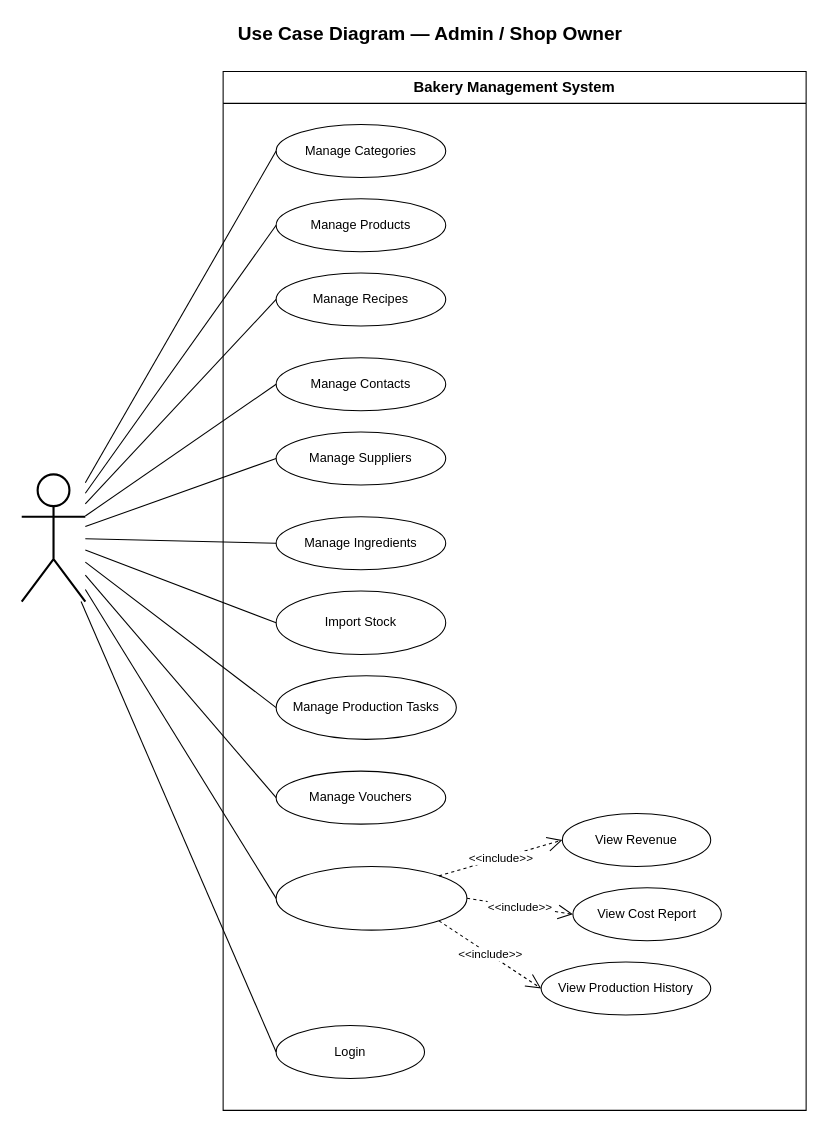
This 825x1129 diagram has some shape labels left out. The box of each missing label's shape, as (x1, y1, x2, y2) in pixels:
Admin / Shop Owner: (20, 473, 86, 602)
View Dashboards & Reports: (275, 865, 467, 930)
